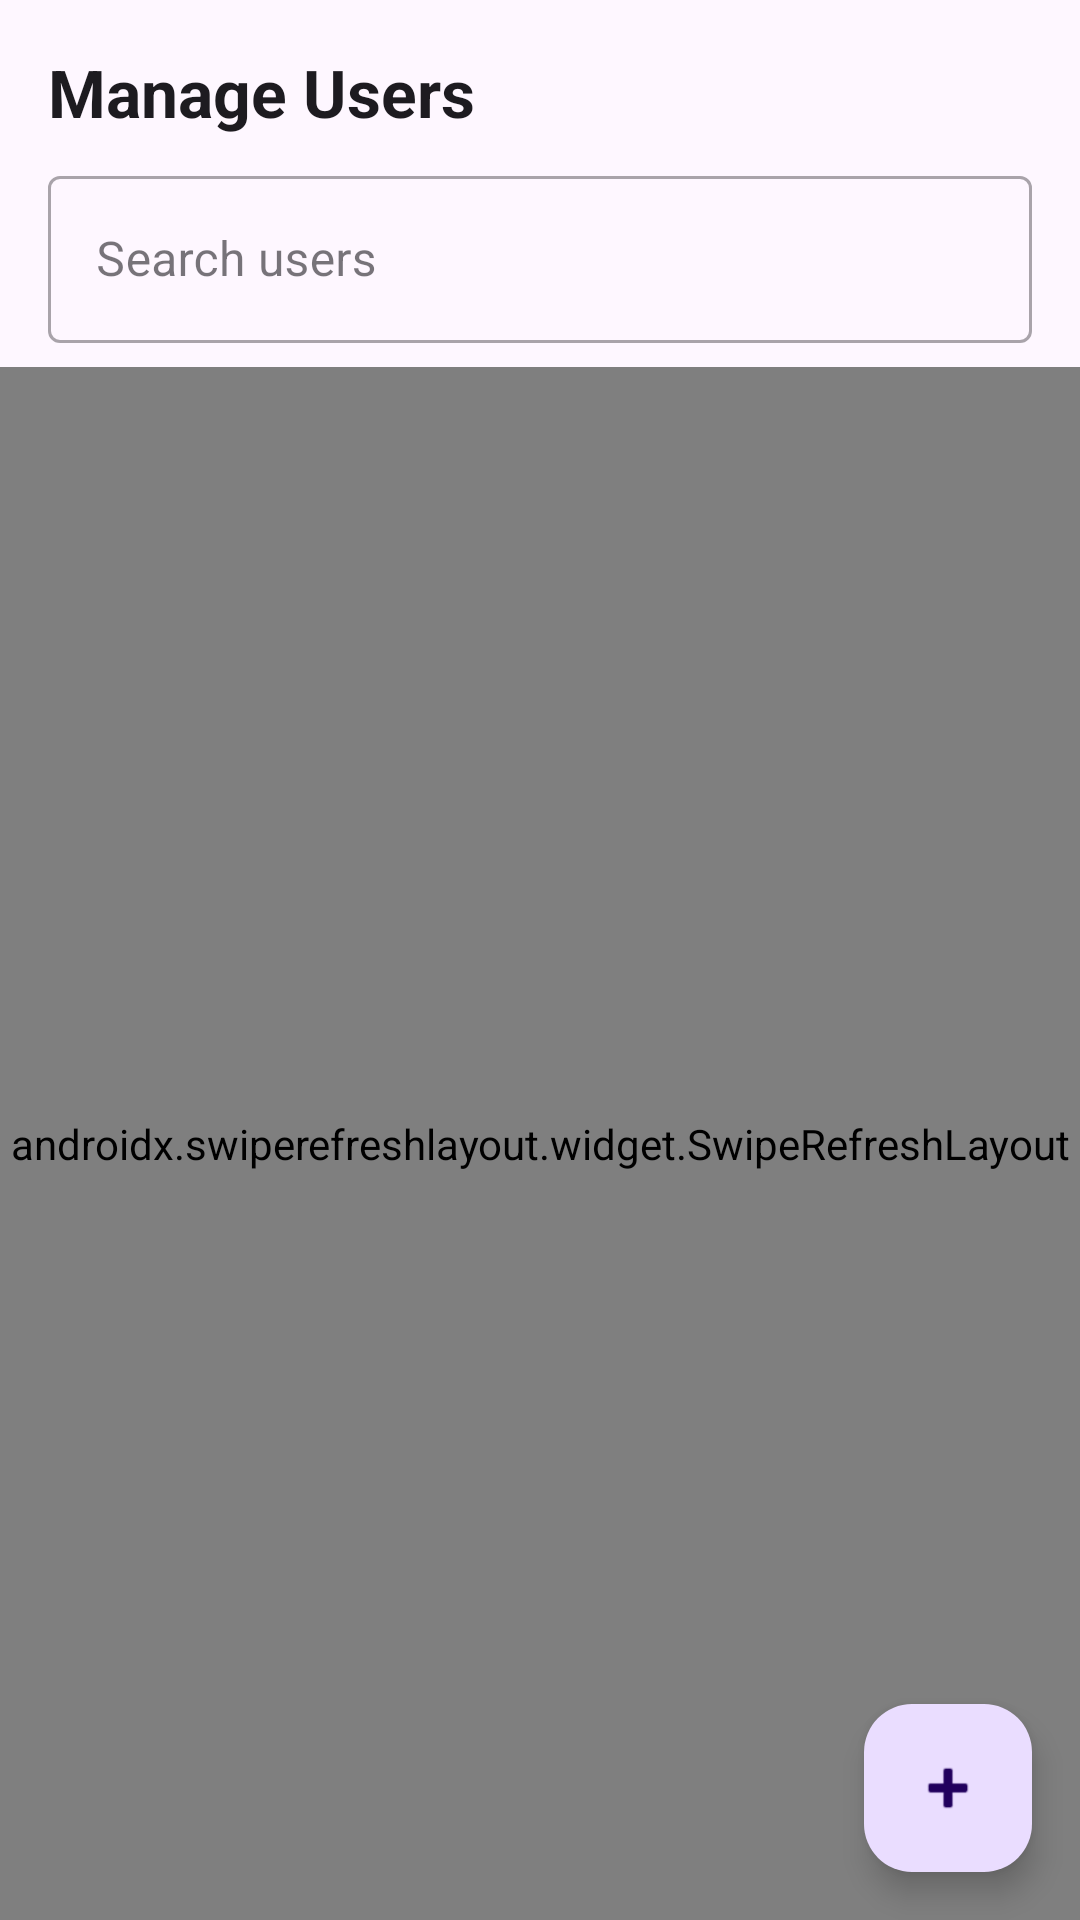

Icon click points for this 1080px x 1920px phone screenshot, format [x,y]:
Add user: [948,1788]
